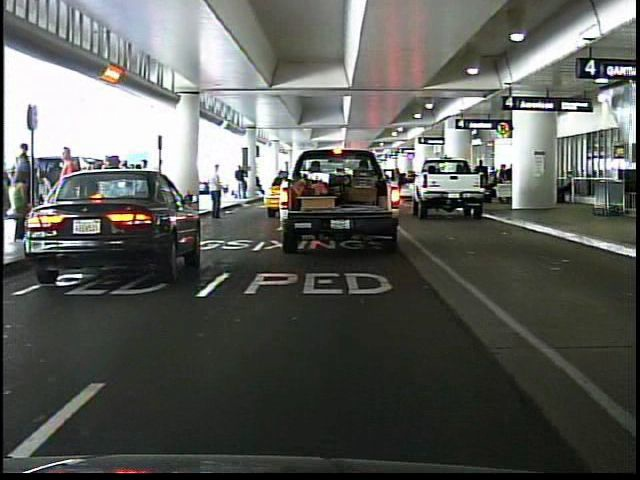person: (58, 145, 82, 247), (205, 162, 228, 224), (393, 167, 409, 211), (236, 162, 254, 198)
